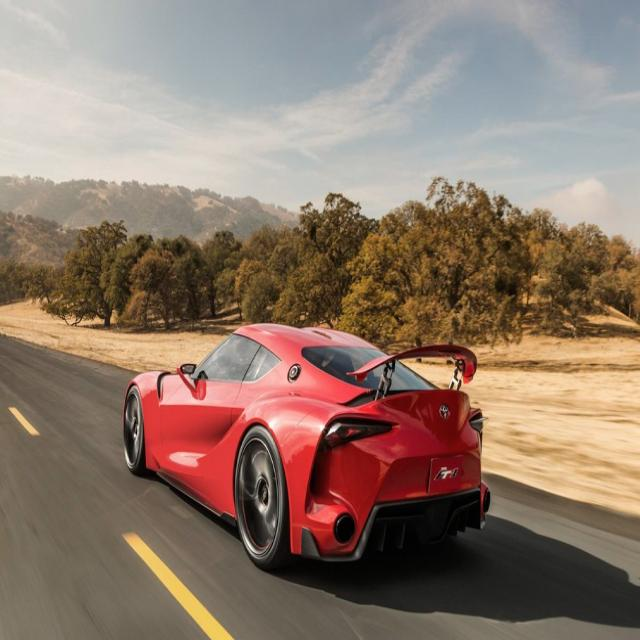back_glass: (299, 342, 438, 392)
back_left_side_light: (322, 418, 396, 453)
back_right_side_light: (467, 412, 485, 433)
front_left_side_door: (159, 329, 262, 472)
front_left_side_mirror: (178, 360, 197, 380)
rear_bumper: (278, 388, 486, 558)
wheel: (233, 424, 286, 566), (124, 386, 143, 472)
